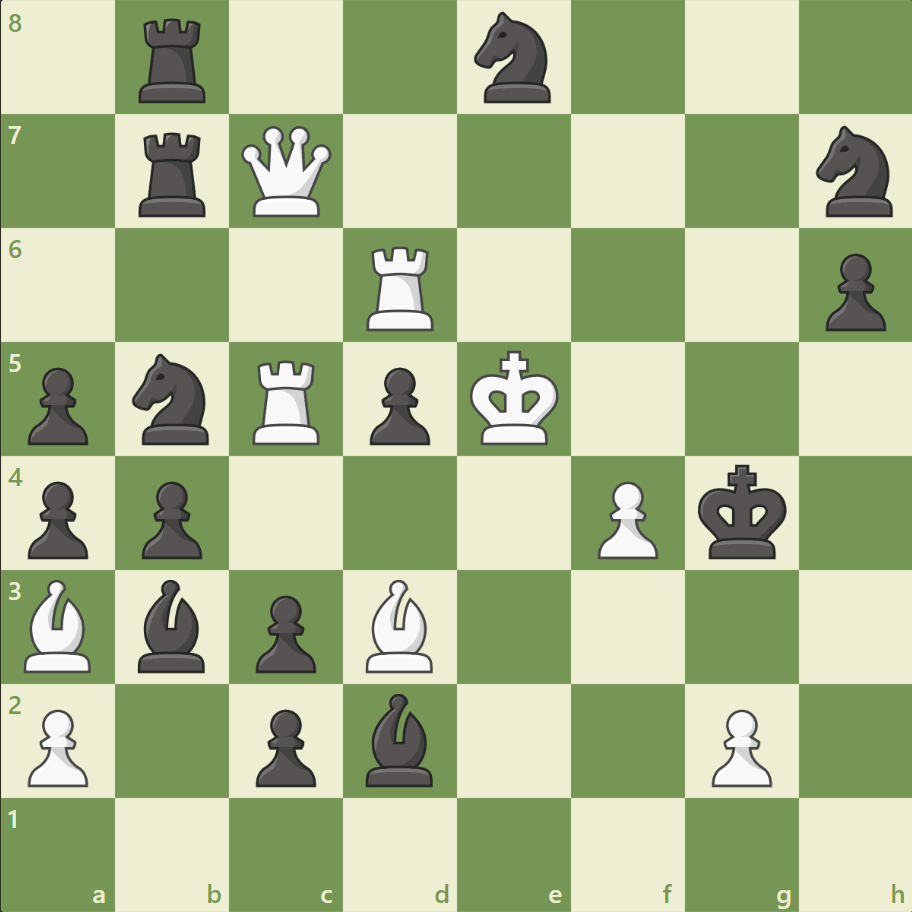B: (17, 574, 101, 676), (358, 574, 442, 676)
K: (465, 344, 565, 452)
P: (20, 700, 95, 791), (701, 700, 776, 791), (588, 473, 662, 564)
Q: (237, 122, 336, 222)
R: (246, 352, 329, 449), (360, 239, 442, 336)
b: (358, 687, 442, 790), (131, 574, 215, 676)
k: (692, 458, 792, 566)
n: (124, 348, 222, 450), (465, 7, 562, 110), (806, 121, 903, 223)
p: (20, 359, 95, 450), (20, 473, 95, 564), (133, 473, 208, 564), (247, 586, 322, 677), (247, 700, 322, 791), (815, 246, 889, 337), (361, 359, 435, 450)
r: (133, 12, 215, 109), (133, 125, 215, 222)
